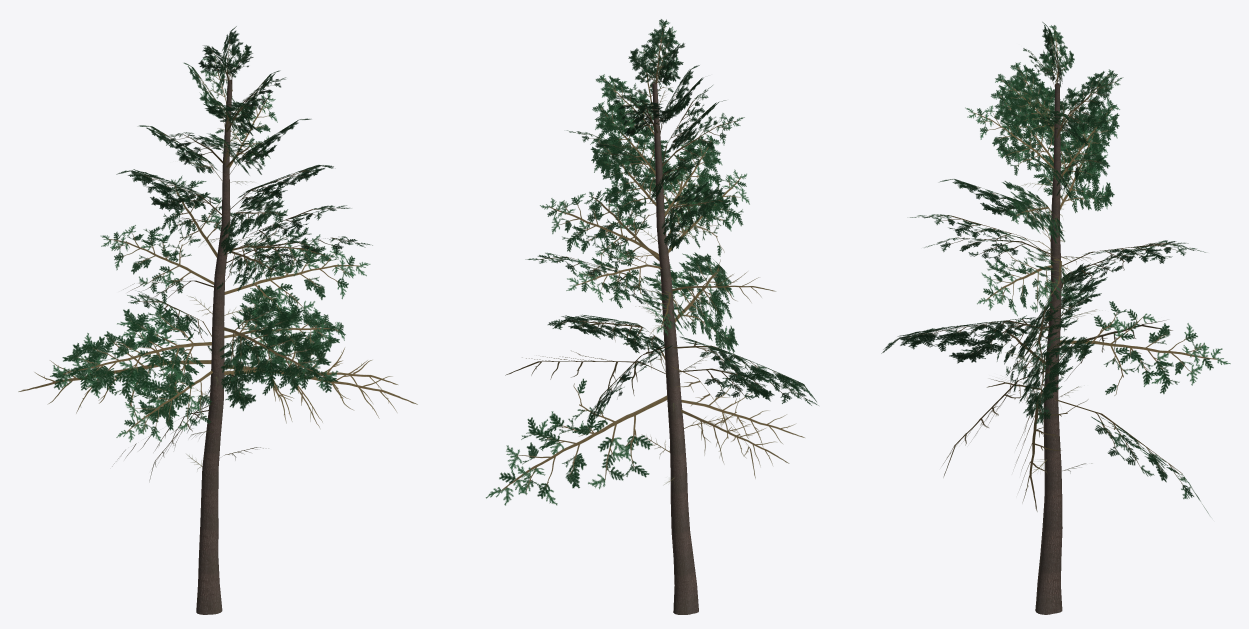
The model's file is scene-nomorph.glb.
The picture shows the model from 3 angles, left to right: view 1: azimuth 30°, elevation 25°; view 2: azimuth 150°, elevation 25°; view 3: azimuth 270°, elevation 25°; orthographic projection. The views are drawn at different scales.
Parts seen in each view (by area): view 1: Pine_Tree_Lowpoly__03; view 2: Pine_Tree_Lowpoly__03; view 3: Pine_Tree_Lowpoly__03.
Part boxes in pixels (<box>): Pine_Tree_Lowpoly__03: <box>18,26,417,614</box>; Pine_Tree_Lowpoly__03: <box>486,19,818,614</box>; Pine_Tree_Lowpoly__03: <box>881,22,1230,614</box>.
Size of the model in its own units: 0.1721 by 0.2787 by 0.1521.
4 materials, 4 textured.
